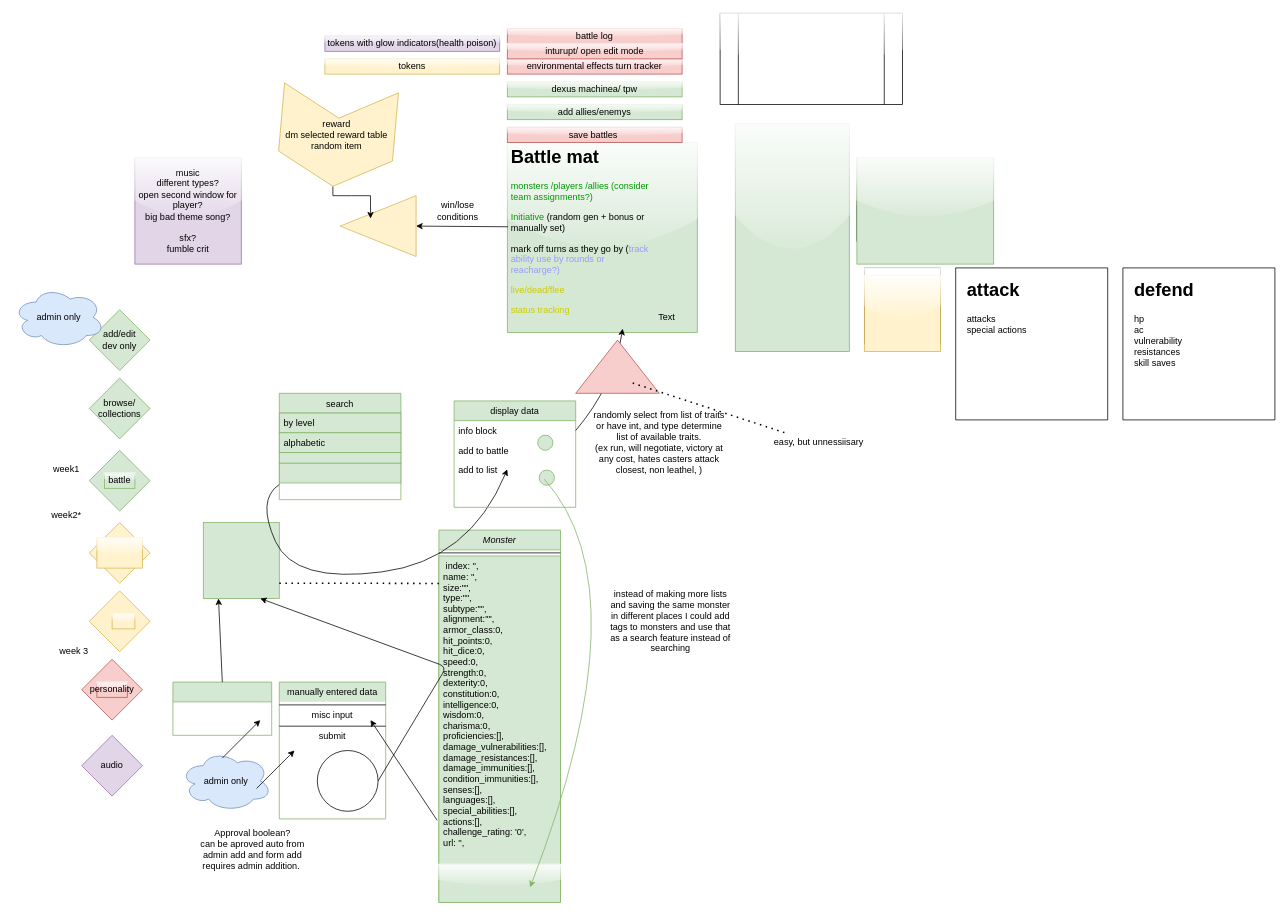
The diagram is 1288 pixels wide and 916 high, and some of its shapes have lost their labels. Here are the shapes that lost their labels. From the top down, the centre of each, then its label:
(x=810, y=58): must have multi battle instances save load must be able to remove
(x=377, y=225): loot xp
(x=925, y=210): hp initive ac statuses
(x=792, y=237): battle name initive red team members blue team members
(x=902, y=313): attack defend info
(x=617, y=366): personality gen
(x=340, y=457): by type
(x=340, y=472): collection
(x=119, y=552): style
(x=241, y=560): monster database
(x=123, y=621): loot system
(x=222, y=708): scrubbed from 5 e api
(x=499, y=883): collections:[],
